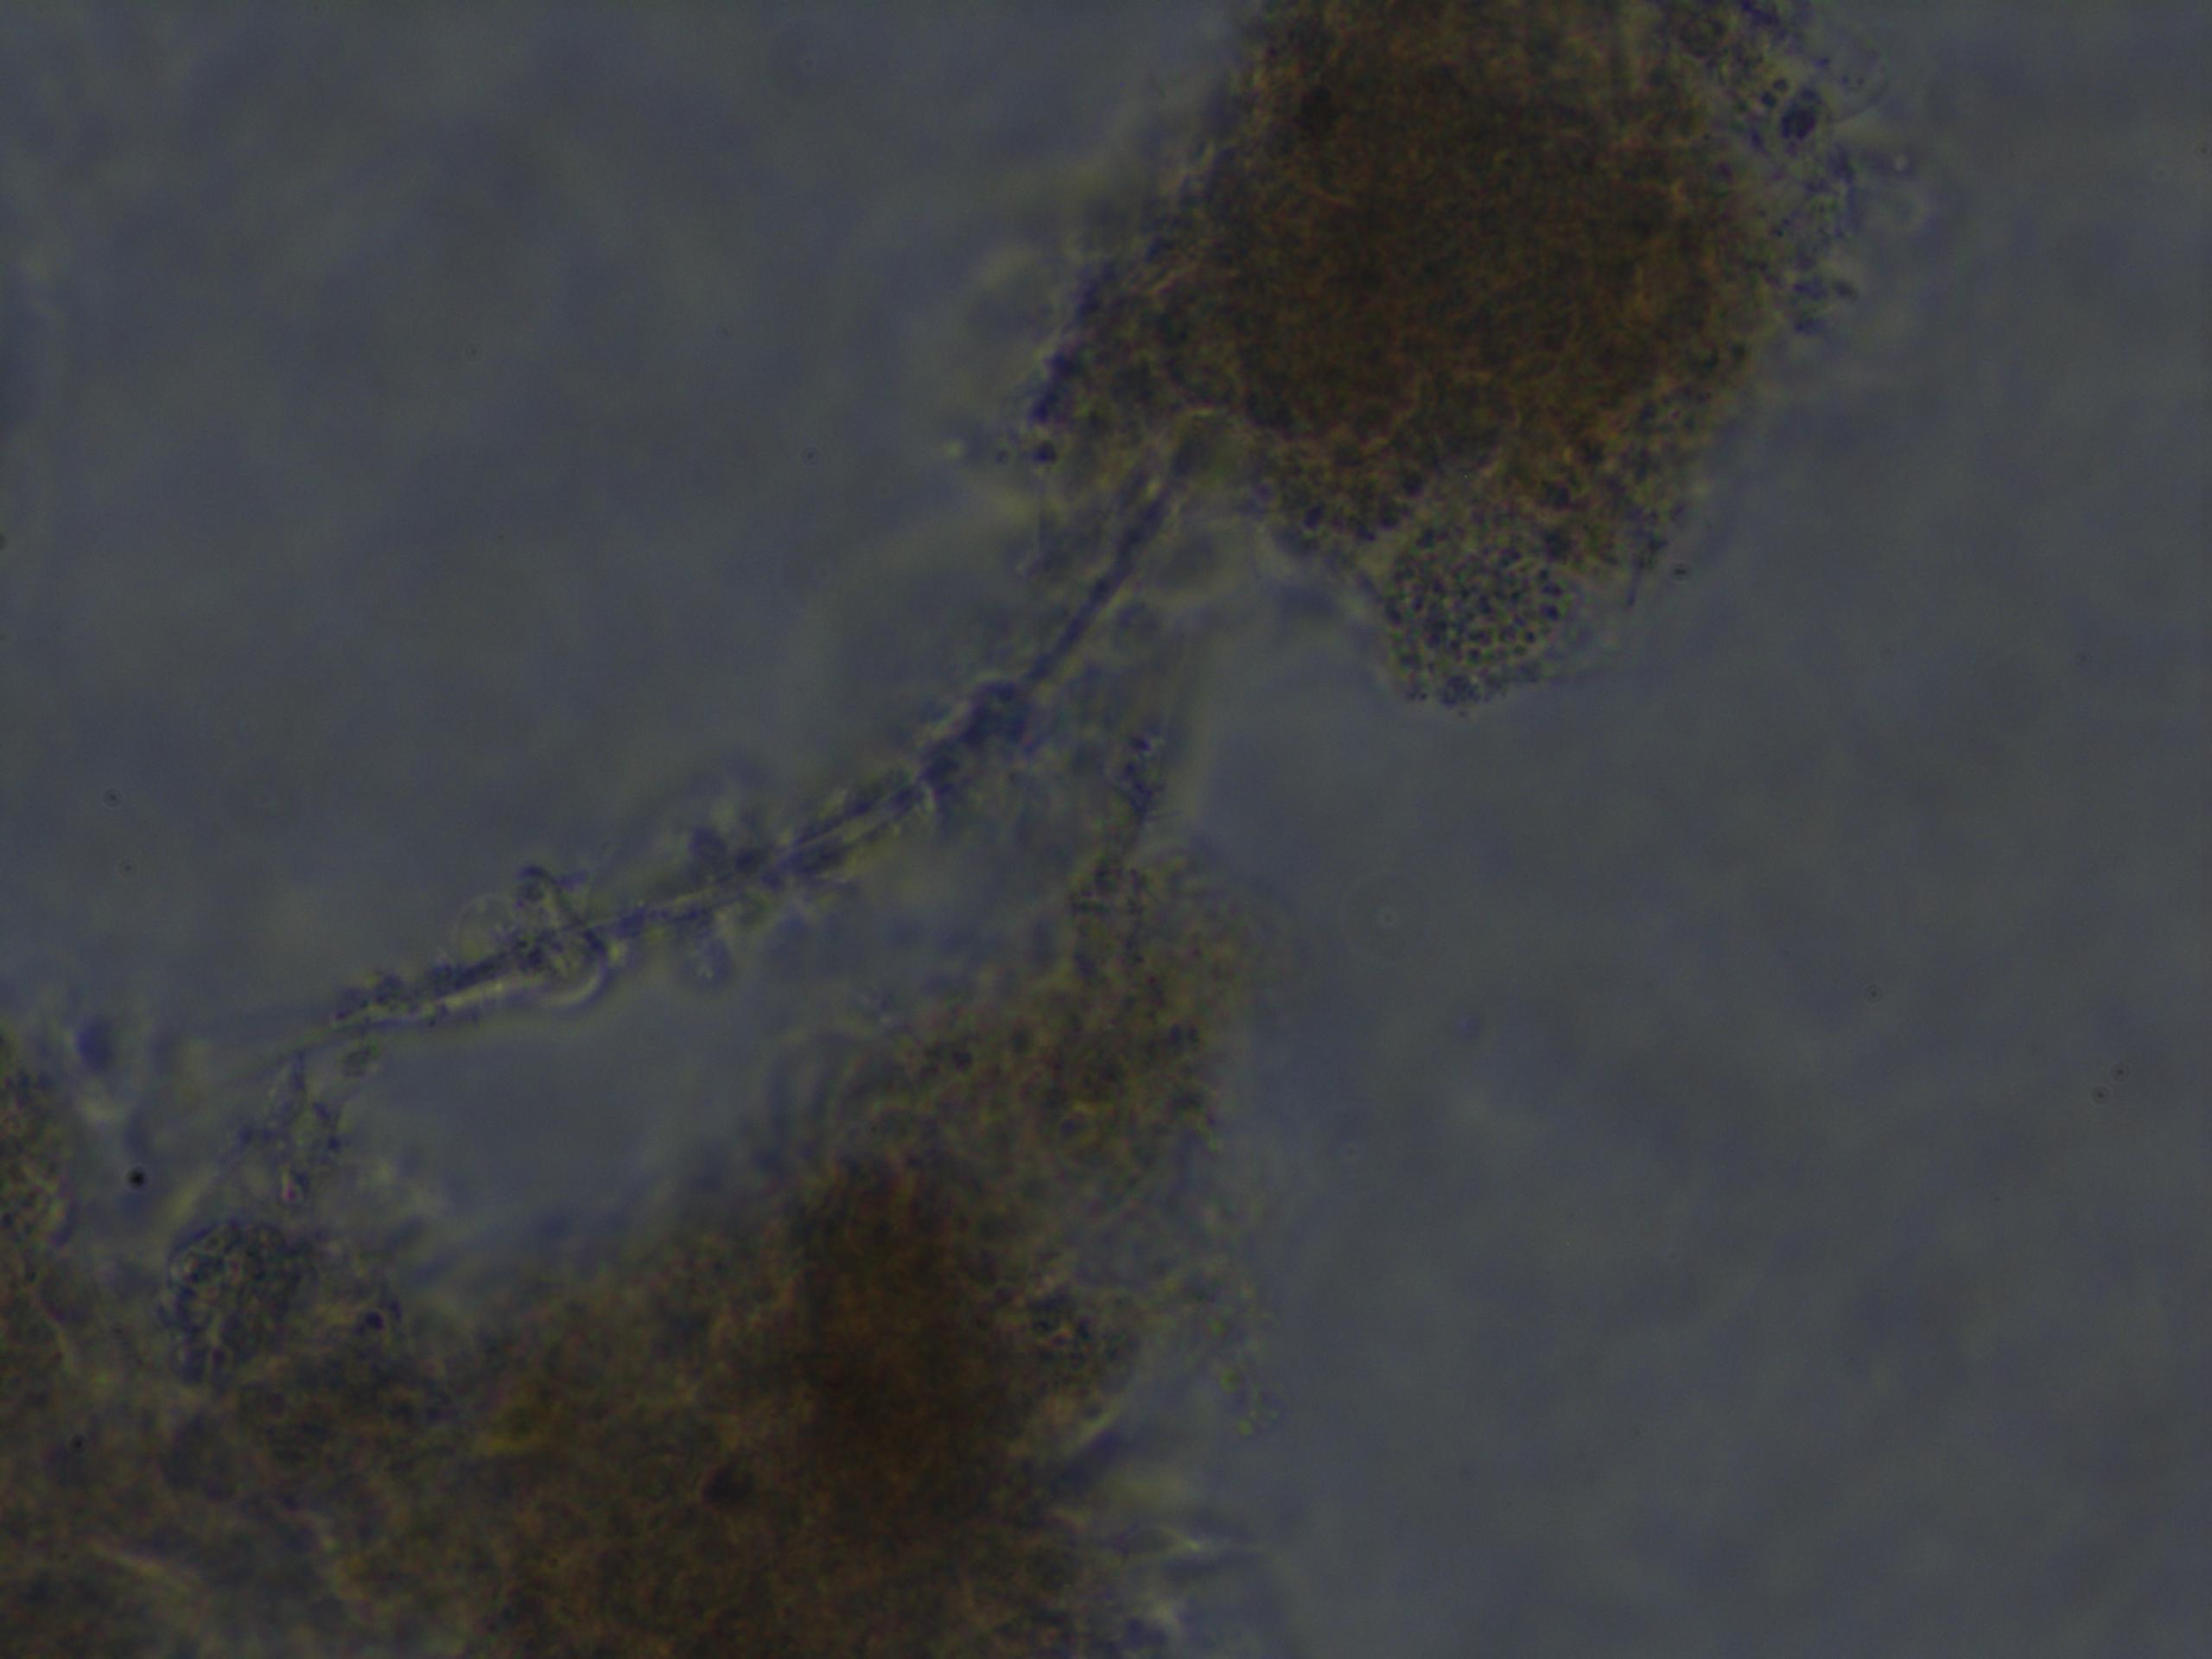filament: (235, 458, 1198, 1094)
